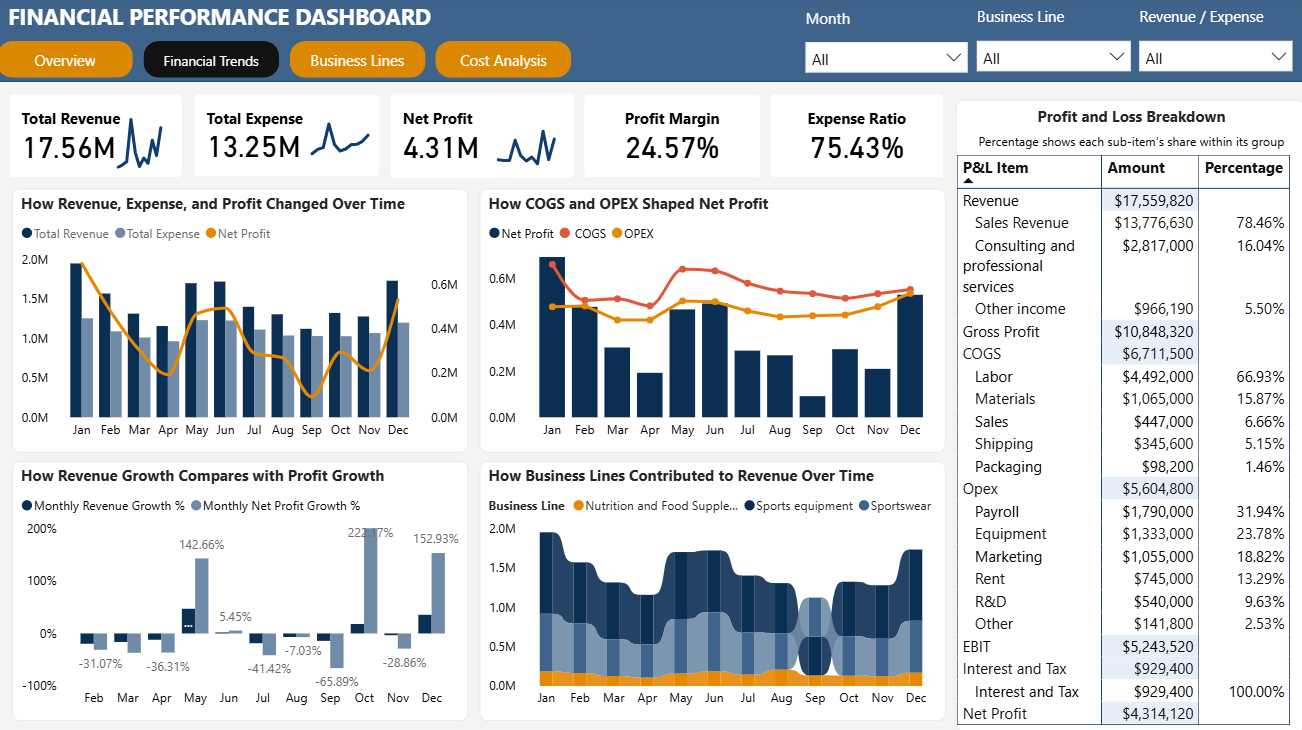

What the dashboard file says about the page in this screenshot:
{"tool":"powerbi","page":{"name":"Financial Performance Analysis","canvas":[1280,720],"ordinal":1},"visuals":[{"type":"shape","box":[0,0,1280.3,84.2],"z":0},{"type":"cardVisual","fields":{"Data":["Measure.Expense Ratio"]},"box":[1034.1,83.2,246.2,104.9],"z":0,"group":"g9"},{"type":"textbox","box":[0,0,491.6,51.4],"z":1000},{"type":"group","id":"g1","title":"Group 3","box":[0,83.2,259.7,104.9],"z":1000,"group":"g9"},{"type":"group","id":"g2","title":"Group 3","box":[262,83.2,260.1,105.2],"z":2000,"group":"g9"},{"type":"actionButton","box":[170,35.5,170,47.7],"z":3000},{"type":"slicer","fields":{"Values":["Dim_BusinessLine.Business Line"]},"box":[953.8,39.3,160,42.8],"z":3000,"group":"g6"},{"type":"slicer","fields":{"Values":["Dim_AccountType.Revenue / Expense Group"]},"box":[1113.2,39.9,159.4,42.5],"z":3000,"group":"g7"},{"type":"slicer","fields":{"Values":["Dim_Date.Month"]},"box":[786.8,40.6,167.8,42.8],"z":3000,"group":"g5"},{"type":"group","id":"g3","title":"Group 3","box":[524.3,83.2,259.3,104.9],"z":3000,"group":"g9"},{"type":"textbox","box":[953.8,5.1,153.6,35.5],"z":4000,"group":"g6"},{"type":"textbox","box":[1113.6,5.1,153.4,35.7],"z":4000,"group":"g7"},{"type":"textbox","box":[786.8,6.4,161.1,35.5],"z":4000,"group":"g5"},{"type":"actionButton","box":[339.9,35.5,170,47.7],"z":4000},{"type":"group","id":"g4","title":"Group 3","box":[785.9,83.2,246.2,104.9],"z":4000,"group":"g9"},{"type":"actionButton","box":[509.9,33.7,168.8,47.7],"z":5000},{"type":"cardVisual","fields":{"Data":["Measure.Total Revenue"]},"box":[0,83.2,246.6,104.9],"z":5000,"group":"g1"},{"type":"cardVisual","fields":{"Data":["Measure.Total Expense"]},"box":[262,83.2,246.6,104.9],"z":5000,"group":"g2"},{"type":"cardVisual","fields":{"Data":["Measure.Net Profit"]},"box":[524.3,83.2,246.6,104.9],"z":5000,"group":"g3"},{"type":"cardVisual","fields":{"Data":["Measure.Profit Margin"]},"box":[785.9,83.2,246.2,104.9],"z":5000,"group":"g4"},{"type":"group","id":"g5","title":"Group 2","box":[786.8,6.4,167,76.5],"z":6000},{"type":"group","id":"g6","title":"Group 2","box":[953.8,5.1,159.4,76.5],"z":7000},{"type":"group","id":"g7","title":"Group 2","box":[1113.2,5.1,159.4,77.8],"z":8000},{"type":"lineClusteredColumnComboChart","title":"How COGS and OPEX Shaped Net Profit","fields":{"Y":["Measure.Net Profit"],"Y2":["Measure.Total COGS","Measure.Total OPEX"],"Category":["Dim_Date.Year Hierarchy.Year","Dim_Date.Year Hierarchy.Quarter","Dim_Date.Year Hierarchy.Month Short"]},"box":[472,188.3,456.1,258],"z":9000},{"type":"group","id":"g8","title":"Group 2","box":[14.7,188.3,446.3,258],"z":10000},{"type":"ribbonChart","title":"How Business Lines Contributed to Revenue Over Time","fields":{"Category":["Dim_Date.Year Hierarchy.Year","Dim_Date.Year Hierarchy.Quarter","Dim_Date.Year Hierarchy.Month Short"],"Y":["Measure.Total Revenue"],"Series":["Dim_BusinessLine.Business Line"]},"box":[472,454.9,456.1,254.3],"z":11000},{"type":"clusteredColumnChart","title":"How Revenue Growth Compares with Profit Growth","fields":{"Y":["Measure.Monthly Revenue Growth %","Measure.Monthly Net Profit Growth %"],"Category":["Dim_Date.Year Hierarchy.Year","Dim_Date.Year Hierarchy.Quarter","Dim_Date.Year Hierarchy.Month Short"]},"box":[14.7,454.9,446.3,254.3],"z":12000},{"type":"pivotTable","title":"Profit and Loss Breakdown","fields":{"Rows":["PL_Structure.Display Line"],"Values":["Measure.PL Value"]},"box":[937.9,188.3,342.4,520.9],"z":13000},{"type":"group","id":"g9","title":"Group 1","box":[0,83.2,1280.3,105.2],"z":14000},{"type":"actionButton","title":"Overview","box":[0,35.5,170,47.7],"z":14001},{"type":"lineClusteredColumnComboChart","title":"How Revenue, Expense, and Profit Changed Over Time","fields":{"Y":["Measure.Total Revenue","Measure.Total Expense"],"Y2":["Measure.Net Profit"],"Category":["Dim_Date.Year Hierarchy.Quarter","Dim_Date.Year Hierarchy.Month Short"]},"box":[14.7,188.3,446.3,258],"z":15001,"group":"g8"},{"type":"lineChart","fields":{"Y":["Measure.Monthly Revenue Growth %"],"Category":["Dim_Date.Month"]},"box":[92.3,109.5,167.4,61.3],"z":16000,"group":"g1"},{"type":"lineChart","fields":{"Category":["Dim_Date.Month"],"Y":["Measure.Monthly Expense Growth %"]},"box":[354.3,109.5,167.4,61.3],"z":16000,"group":"g2"},{"type":"lineChart","fields":{"Category":["Dim_Date.Month"],"Y":["Measure.Monthly Net Profit Growth %"]},"box":[616.6,109.5,167.4,61.3],"z":16000,"group":"g3"}]}

Visuals, with their boxes in screenshot pixels (x1, y1, x2, y2), scaled from the page's 1280x720 canvas onto the 1302x730 screenshot:
shape: [x1=0, y1=0, x2=1301, y2=85]
cardVisual - Measure.Expense Ratio: [x1=1052, y1=84, x2=1301, y2=191]
textbox: [x1=0, y1=0, x2=500, y2=52]
"Group 3" group: [x1=0, y1=84, x2=264, y2=191]
"Group 3" group: [x1=267, y1=84, x2=531, y2=191]
actionButton: [x1=173, y1=36, x2=346, y2=84]
slicer - Dim_BusinessLine.Business Line: [x1=970, y1=40, x2=1133, y2=83]
slicer - Dim_AccountType.Revenue / Expense Group: [x1=1132, y1=40, x2=1294, y2=84]
slicer - Dim_Date.Month: [x1=800, y1=41, x2=971, y2=85]
"Group 3" group: [x1=533, y1=84, x2=797, y2=191]
textbox: [x1=970, y1=5, x2=1126, y2=41]
textbox: [x1=1133, y1=5, x2=1289, y2=41]
textbox: [x1=800, y1=6, x2=964, y2=42]
actionButton: [x1=346, y1=36, x2=519, y2=84]
"Group 3" group: [x1=799, y1=84, x2=1050, y2=191]
actionButton: [x1=519, y1=34, x2=690, y2=83]
cardVisual - Measure.Total Revenue: [x1=0, y1=84, x2=251, y2=191]
cardVisual - Measure.Total Expense: [x1=267, y1=84, x2=517, y2=191]
cardVisual - Measure.Net Profit: [x1=533, y1=84, x2=784, y2=191]
cardVisual - Measure.Profit Margin: [x1=799, y1=84, x2=1050, y2=191]
"Group 2" group: [x1=800, y1=6, x2=970, y2=84]
"Group 2" group: [x1=970, y1=5, x2=1132, y2=83]
"Group 2" group: [x1=1132, y1=5, x2=1294, y2=84]
"How COGS and OPEX Shaped Net Profit" lineClusteredColumnComboChart: [x1=480, y1=191, x2=944, y2=452]
"Group 2" group: [x1=15, y1=191, x2=469, y2=452]
"How Business Lines Contributed to Revenue Over Time" ribbonChart: [x1=480, y1=461, x2=944, y2=719]
"How Revenue Growth Compares with Profit Growth" clusteredColumnChart: [x1=15, y1=461, x2=469, y2=719]
"Profit and Loss Breakdown" pivotTable: [x1=954, y1=191, x2=1301, y2=719]
"Group 1" group: [x1=0, y1=84, x2=1301, y2=191]
"Overview" actionButton: [x1=0, y1=36, x2=173, y2=84]
"How Revenue, Expense, and Profit Changed Over Time" lineClusteredColumnComboChart: [x1=15, y1=191, x2=469, y2=452]
lineChart - Measure.Monthly Revenue Growth % x Dim_Date.Month: [x1=94, y1=111, x2=264, y2=173]
lineChart - Dim_Date.Month x Measure.Monthly Expense Growth %: [x1=360, y1=111, x2=531, y2=173]
lineChart - Dim_Date.Month x Measure.Monthly Net Profit Growth %: [x1=627, y1=111, x2=797, y2=173]
